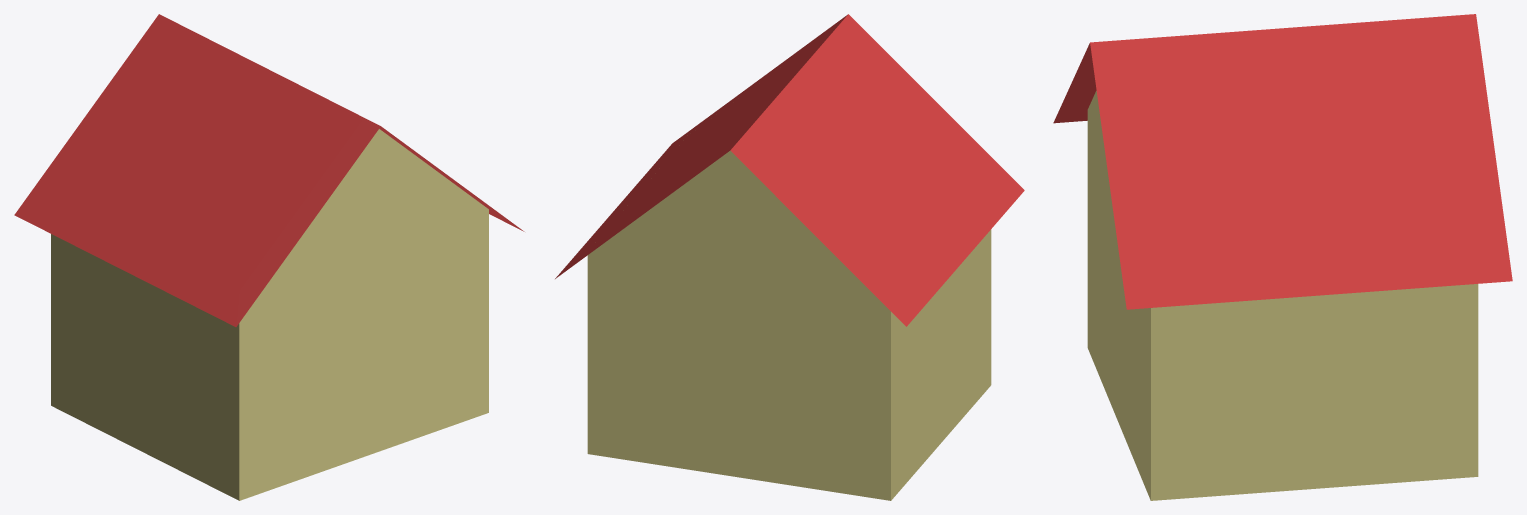
3 views of the same model, side by side, from view 1: azimuth 30°, elevation 25°; view 2: azimuth 150°, elevation 25°; view 3: azimuth 270°, elevation 25° (orthographic). The views are drawn at different scales.
Size of the model in its own units: 12.35 by 11.62 by 10.72.
